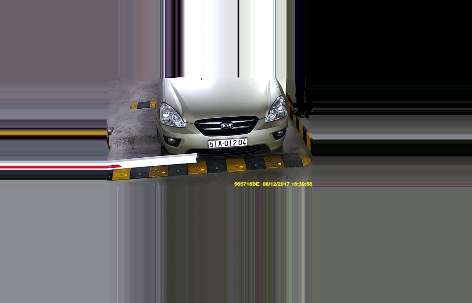plate: (207, 136, 249, 148)
